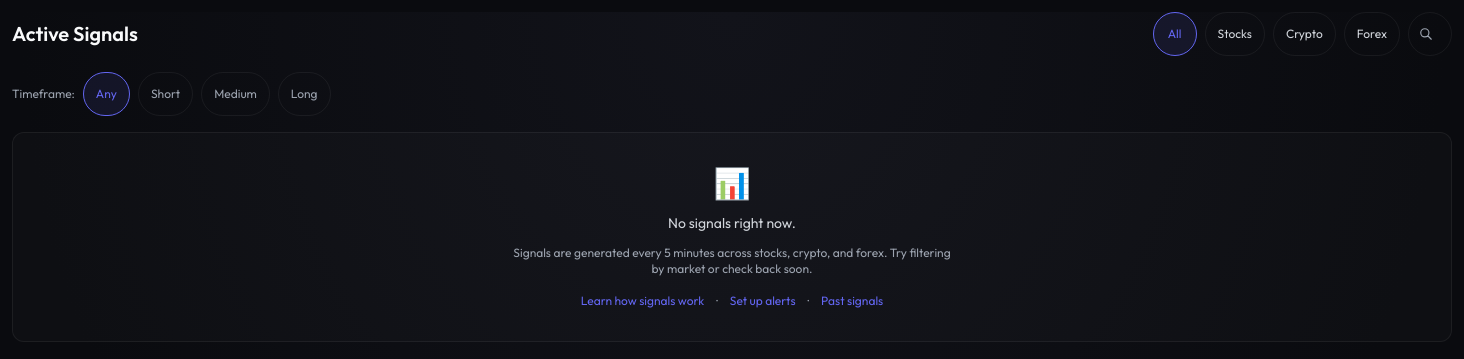
Test: SignalFeed › shows stock empty state message for stock filter
What coordinates should you click on to do the following:
click the button "Stocks"
I would click on:
 (1235, 34)
Its box is [1204,12,1265,56].
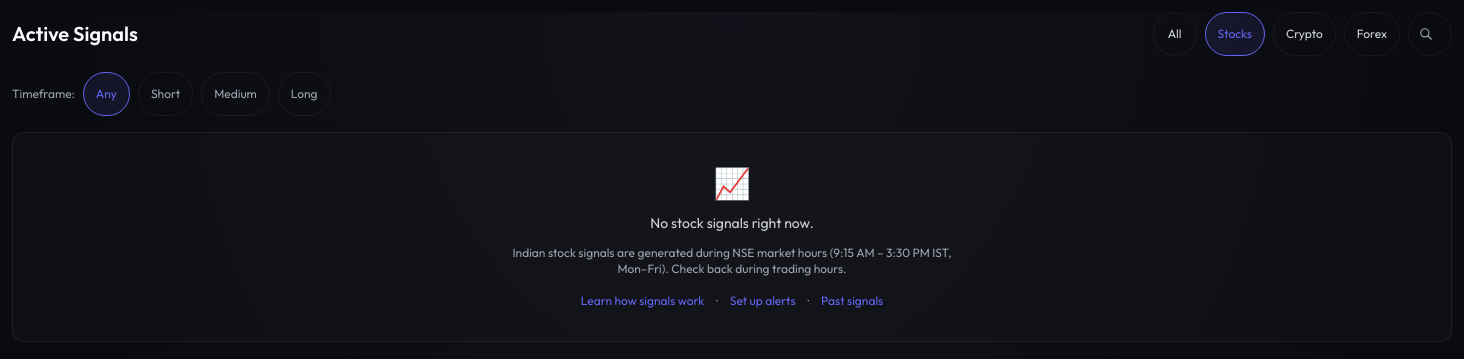
Expected: the text "NSE market hours" is shown, [512,245,952,276]
